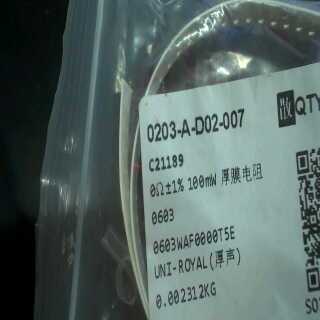0R: (147, 172, 217, 229)
